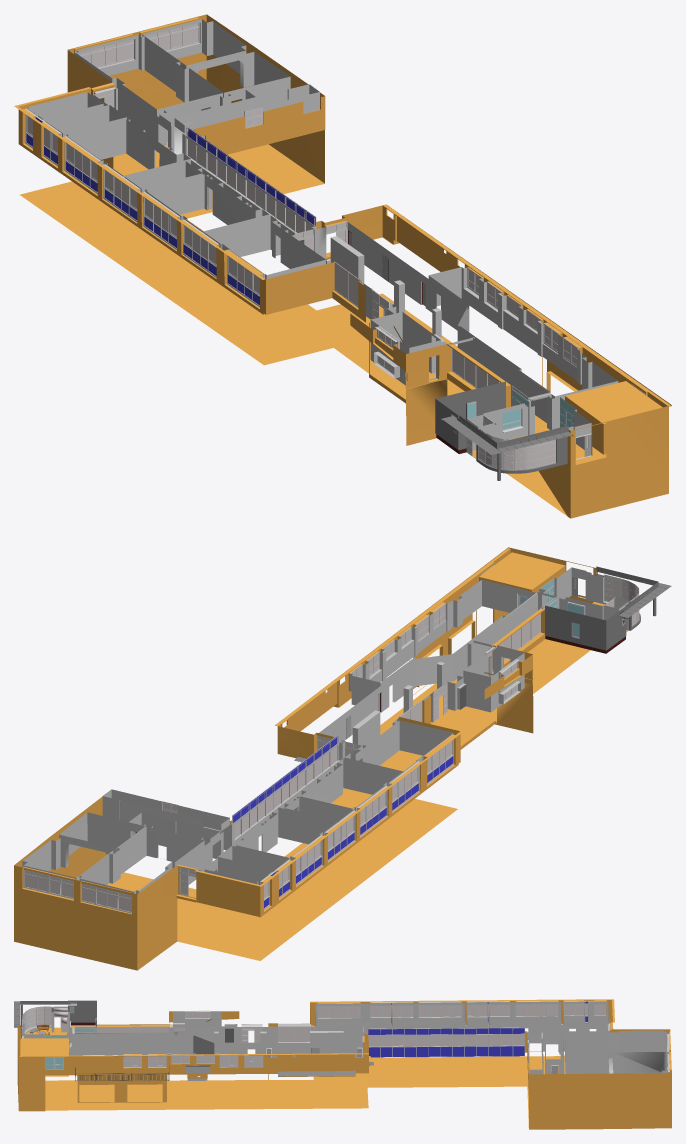
The picture shows the model from 3 angles, top to bottom: view 1: azimuth 30°, elevation 25°; view 2: azimuth 150°, elevation 25°; view 3: azimuth 270°, elevation 25°; orthographic projection. The views are drawn at different scales.
Visible parts, largest first — view 1: steny, ra0_steny, ra0_steny.012, 0_ram_okna005.010, 0_ram_okna005.069, stena024.003, ra0_steny.013, ra0_stena, 0_ram_okna005.014, 0_ram_okna005.006, ra0_steny.011, ra0_steny.001 (+18 smaller); view 2: steny, ra0_steny, ra0_steny.012, 0_ram_okna005.010, 0_ram_okna005.069, ra0_steny.011, stena024.003, ra0_steny.001, ra0_steny.013, ra0_stena, 0_ram_okna005.014, ra0_steny.003 (+17 smaller); view 3: steny, ra0_steny, stena024.003, ra0_steny.012, 0_ram_okna005.069, 0_ram_okna005.010, 0_ram_okna005.006, ra0_steny.013, ra0_stena, 0_ram_okna005.014, ra0_steny.011, ra0_steny.003 (+21 smaller).
Part boxes in pixels (<box>): steny: <box>14,14,671,518</box>; ra0_steny: <box>93,87,551,429</box>; ra0_steny.012: <box>428,267,618,400</box>; 0_ram_okna005.010: <box>141,19,290,100</box>; 0_ram_okna005.069: <box>75,35,222,116</box>; stena024.003: <box>186,127,316,232</box>; ra0_steny.013: <box>203,215,325,279</box>; ra0_stena: <box>145,174,269,232</box>; 0_ram_okna005.014: <box>66,119,190,176</box>; 0_ram_okna005.006: <box>565,381,662,454</box>; ra0_steny.011: <box>435,381,568,450</box>; ra0_steny.001: <box>174,84,319,139</box>; steny: <box>14,547,627,970</box>; ra0_steny: <box>129,590,559,884</box>; ra0_steny.012: <box>350,579,535,705</box>; 0_ram_okna005.010: <box>22,812,145,880</box>; 0_ram_okna005.069: <box>79,826,204,894</box>; ra0_steny.011: <box>545,566,658,650</box>; stena024.003: <box>232,736,338,838</box>; ra0_steny.001: <box>102,789,229,850</box>; ra0_steny.013: <box>344,720,452,772</box>; ra0_stena: <box>300,758,402,811</box>; 0_ram_okna005.014: <box>236,807,338,860</box>; ra0_steny.003: <box>463,646,524,712</box>; steny: <box>17,999,671,1129</box>; ra0_steny: <box>67,1023,609,1074</box>; stena024.003: <box>368,1027,524,1057</box>; ra0_steny.012: <box>70,1035,265,1055</box>; 0_ram_okna005.069: <box>565,1030,668,1072</box>; 0_ram_okna005.010: <box>565,1052,669,1073</box>; 0_ram_okna005.006: <box>20,1038,68,1076</box>; ra0_steny.013: <box>315,1003,391,1026</box>; ra0_stena: <box>391,1002,465,1026</box>; 0_ram_okna005.014: <box>489,1001,561,1038</box>; ra0_steny.011: <box>20,1000,96,1026</box>; ra0_steny.003: <box>171,1011,221,1035</box>.
Bounding box in the file's own units: 2211 × 838 × 8181.
